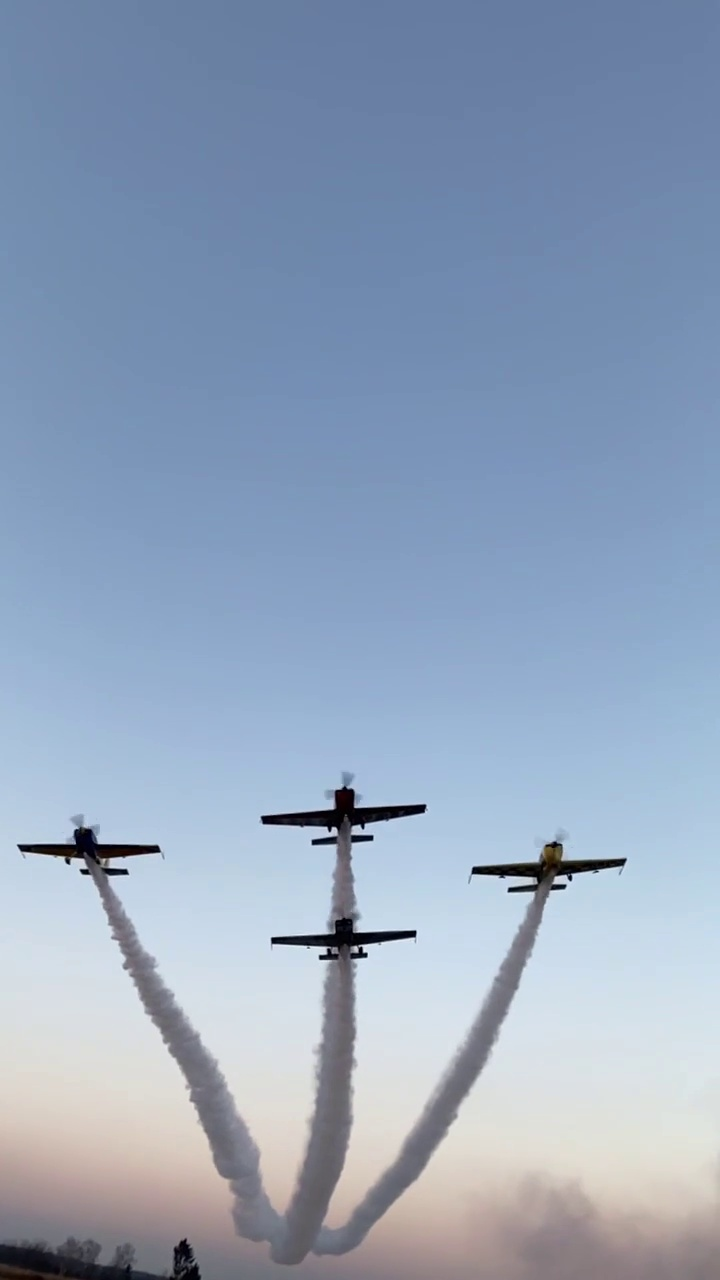plane: (262, 772, 426, 848), (466, 827, 628, 895), (16, 808, 163, 877), (266, 907, 420, 959)
